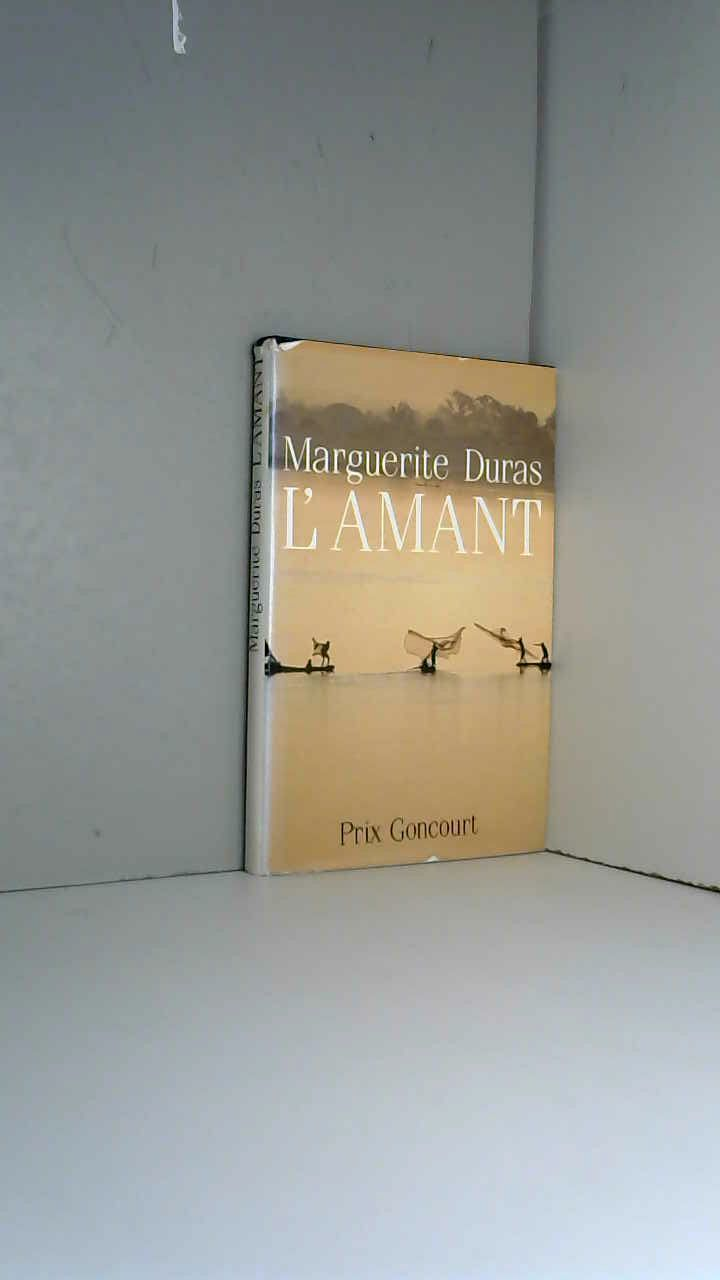book: (223, 322, 578, 893)
